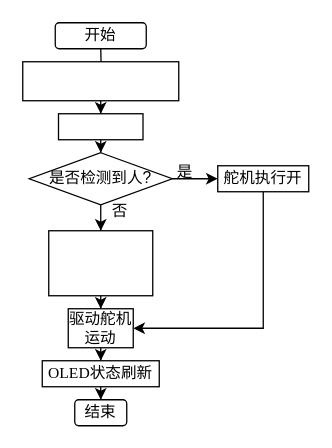
The diagram is 332 pixels wide and 448 high, and some of its shapes have lost their labels. The box of each missing label's shape, as (x1, y1, x2, y2) in pixels:
光照强度判定≤30%关闭 ≥70%打开: (47, 229, 153, 296)
数据处理: (57, 112, 143, 140)
采集红外、光照数据: (21, 60, 179, 101)
